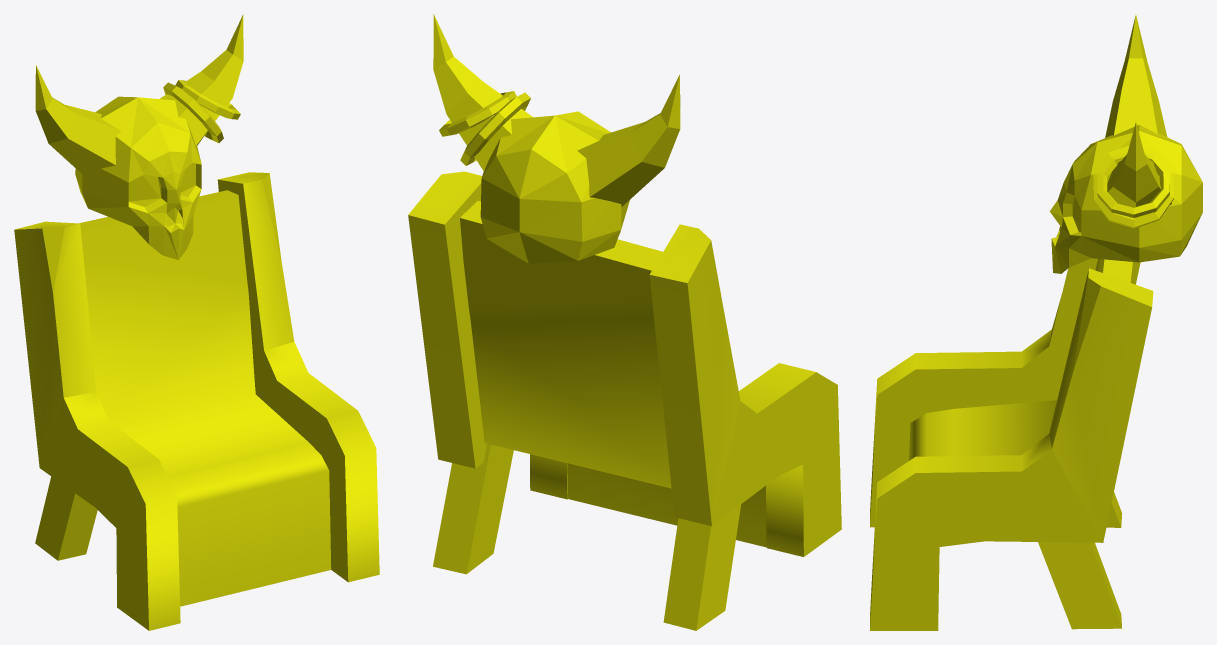
3 renders of one model, left to right at view 1: azimuth 30°, elevation 25°; view 2: azimuth 150°, elevation 25°; view 3: azimuth 270°, elevation 25°, orthographic. The views are drawn at different scales.
Visible parts, largest first — view 1: ghe1; view 2: ghe1; view 3: ghe1.
Boxes of the visible parts, x1,y1,x2,y2 form: ghe1: (14,14,379,630); ghe1: (408,14,841,630); ghe1: (870,15,1202,630).
Bounding box in the file's own units: 2.45 × 4.69 × 2.81.
Materials: 1 (1 with a texture image).
